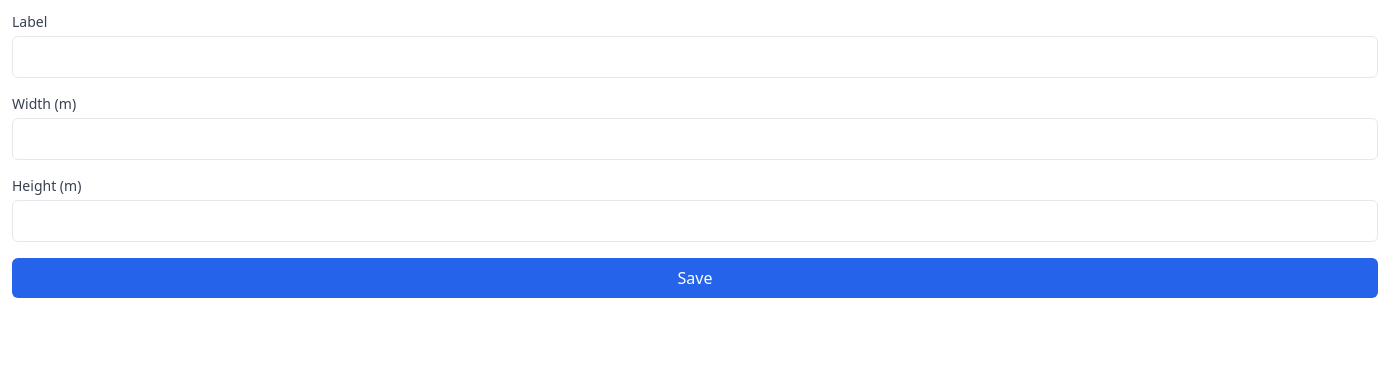
WallForm › rejects zero width
This screenshot has width=1390, height=389.
Step 1. Type "W" into the field labelled "Label" → (695,57), box [12, 36, 1378, 78]
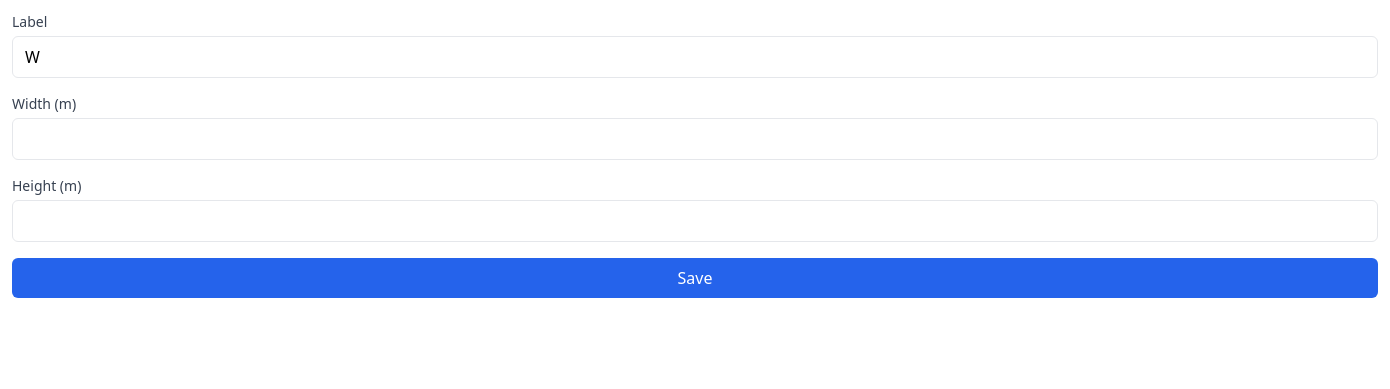
Step 2. Type "0" into the number field labelled "Width (m)" → (695,139), box [12, 118, 1378, 160]
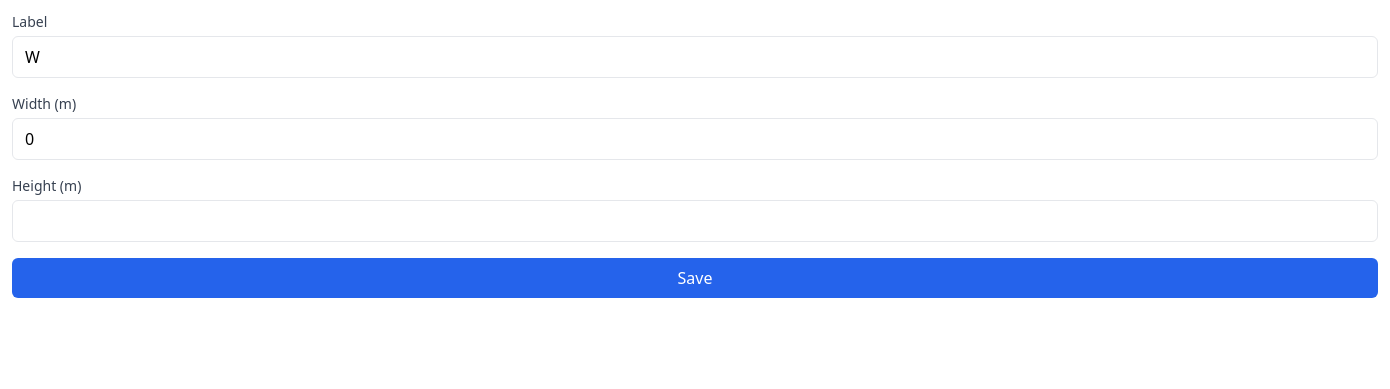
Step 3. Type "2" into the number field labelled "Height (m)" → (695,221), box [12, 200, 1378, 242]
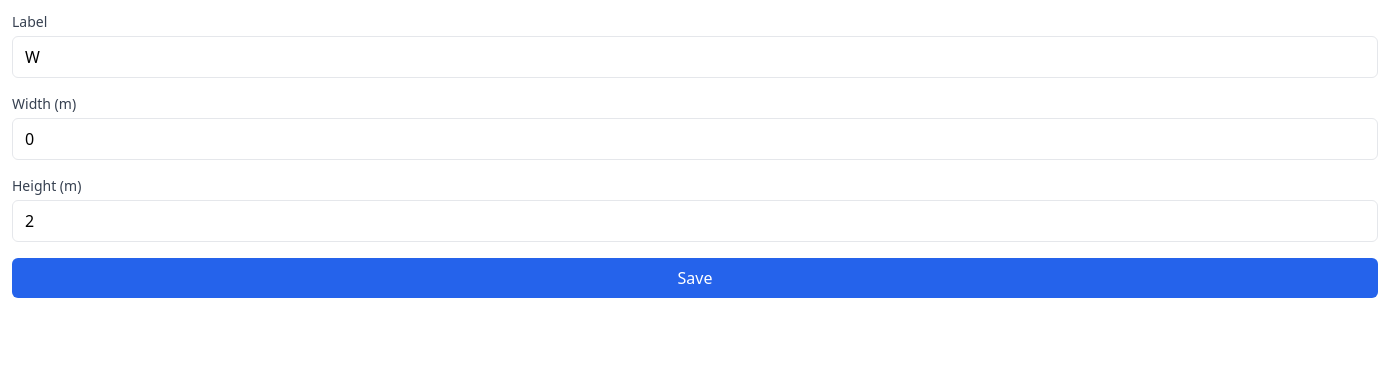
Step 4. Submit the form named "Wall form"
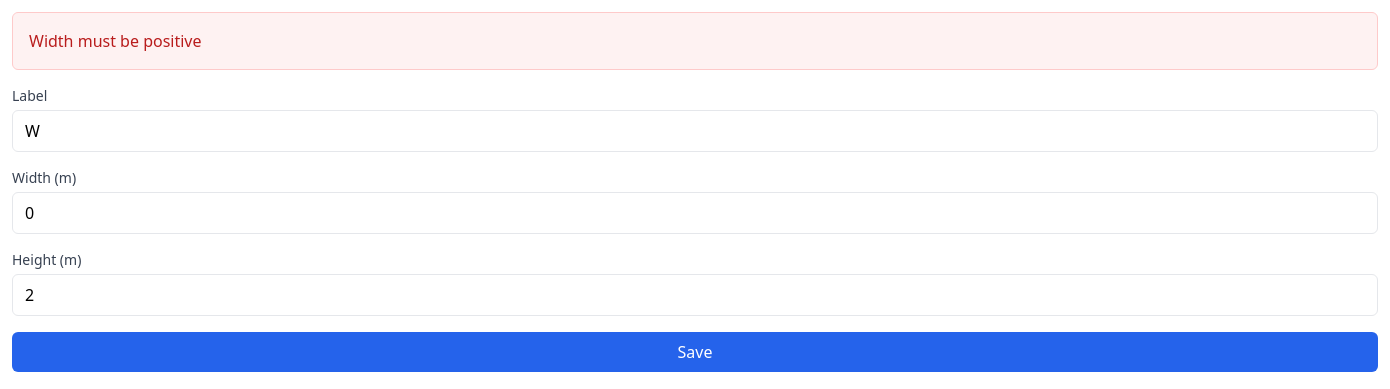
Expected: the message shows "positive", [29, 30, 202, 52]
